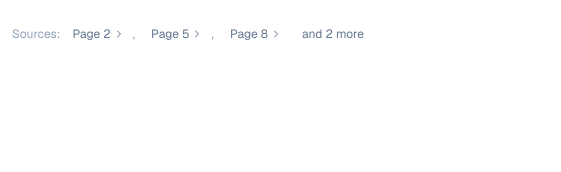
Test: SourceCitationList › AC-5.4.4: Expandable sources for many citations › shows "(show less)" button when expanded
This screenshot has width=561, height=172.
Click the button "and 2 more": point(333, 34) [294,12,372,56]
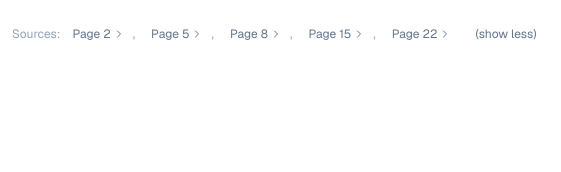
Expected: the button with aria-label "fewer sources" is shown, [467,12,544,56]
